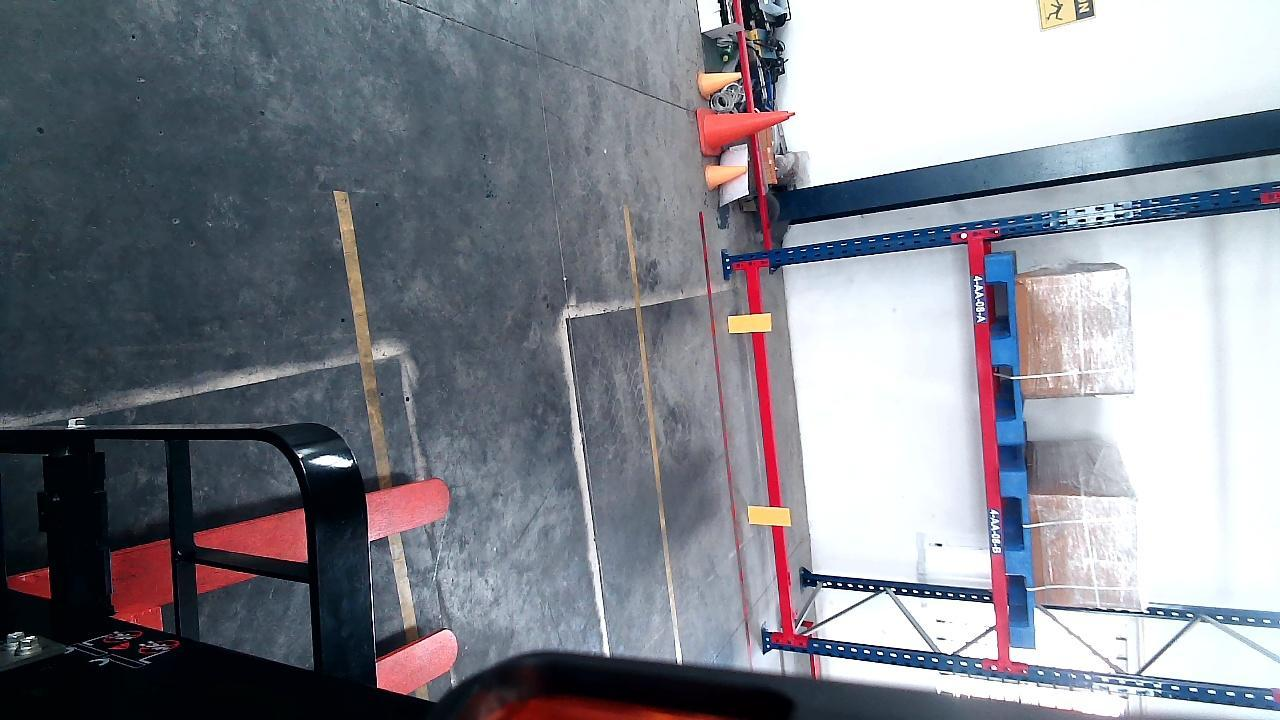red_line: (696, 209, 749, 650)
yellow_line: (331, 188, 417, 642), (624, 214, 679, 618)
